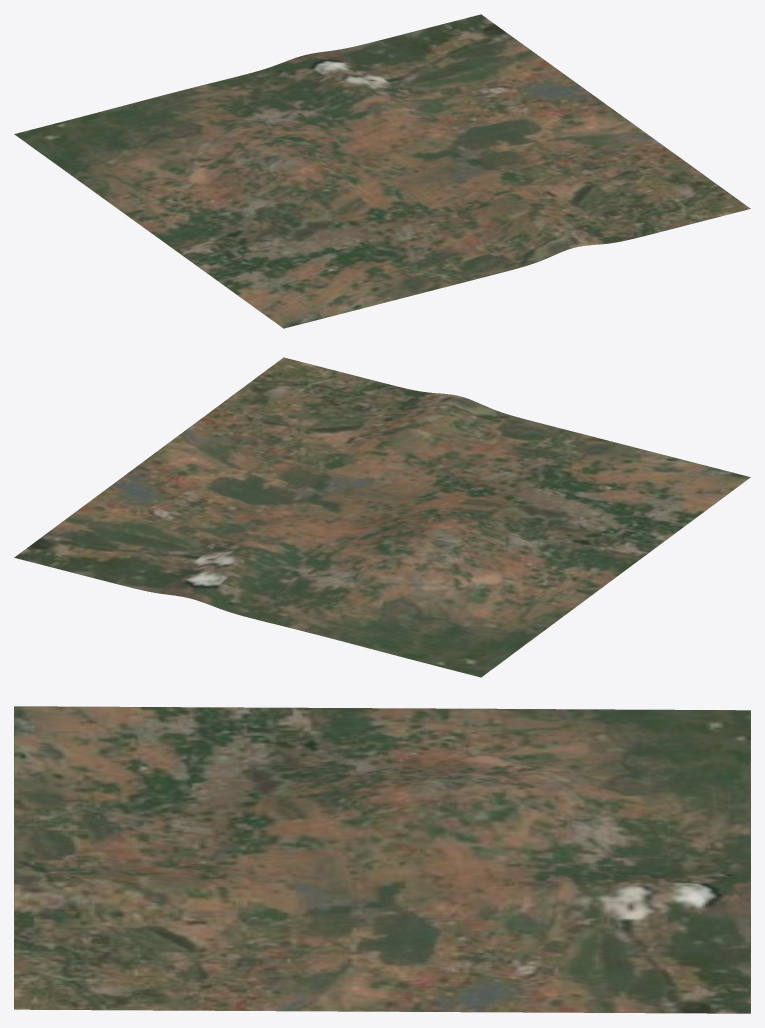
3 renders of one model, top to bottom at view 1: azimuth 30°, elevation 25°; view 2: azimuth 150°, elevation 25°; view 3: azimuth 270°, elevation 25°, orthographic. The views are drawn at different scales.
Visible parts, largest first — view 1: geometry_0; view 2: geometry_0; view 3: geometry_0.
Part boxes in pixels (left/top/right/bottom): geometry_0: left=14, top=14, right=750, bottom=328; geometry_0: left=14, top=357, right=750, bottom=677; geometry_0: left=14, top=706, right=750, bottom=1013.
Bounding box in the file's own units: 10000 × 386 × 10000.
Materials: 1 (1 with a texture image).
